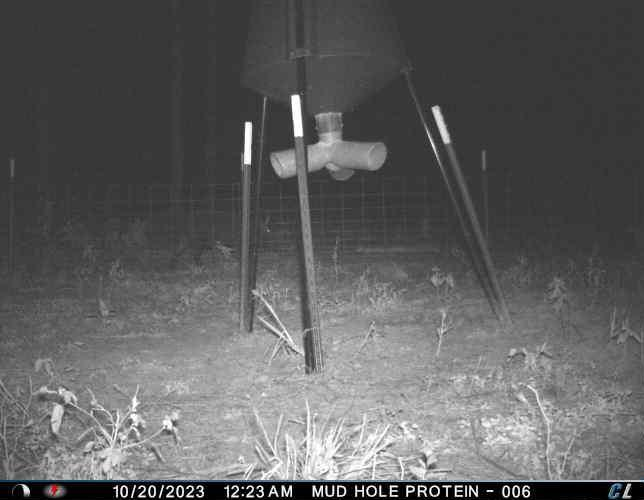Hog: (168, 203, 279, 272)
